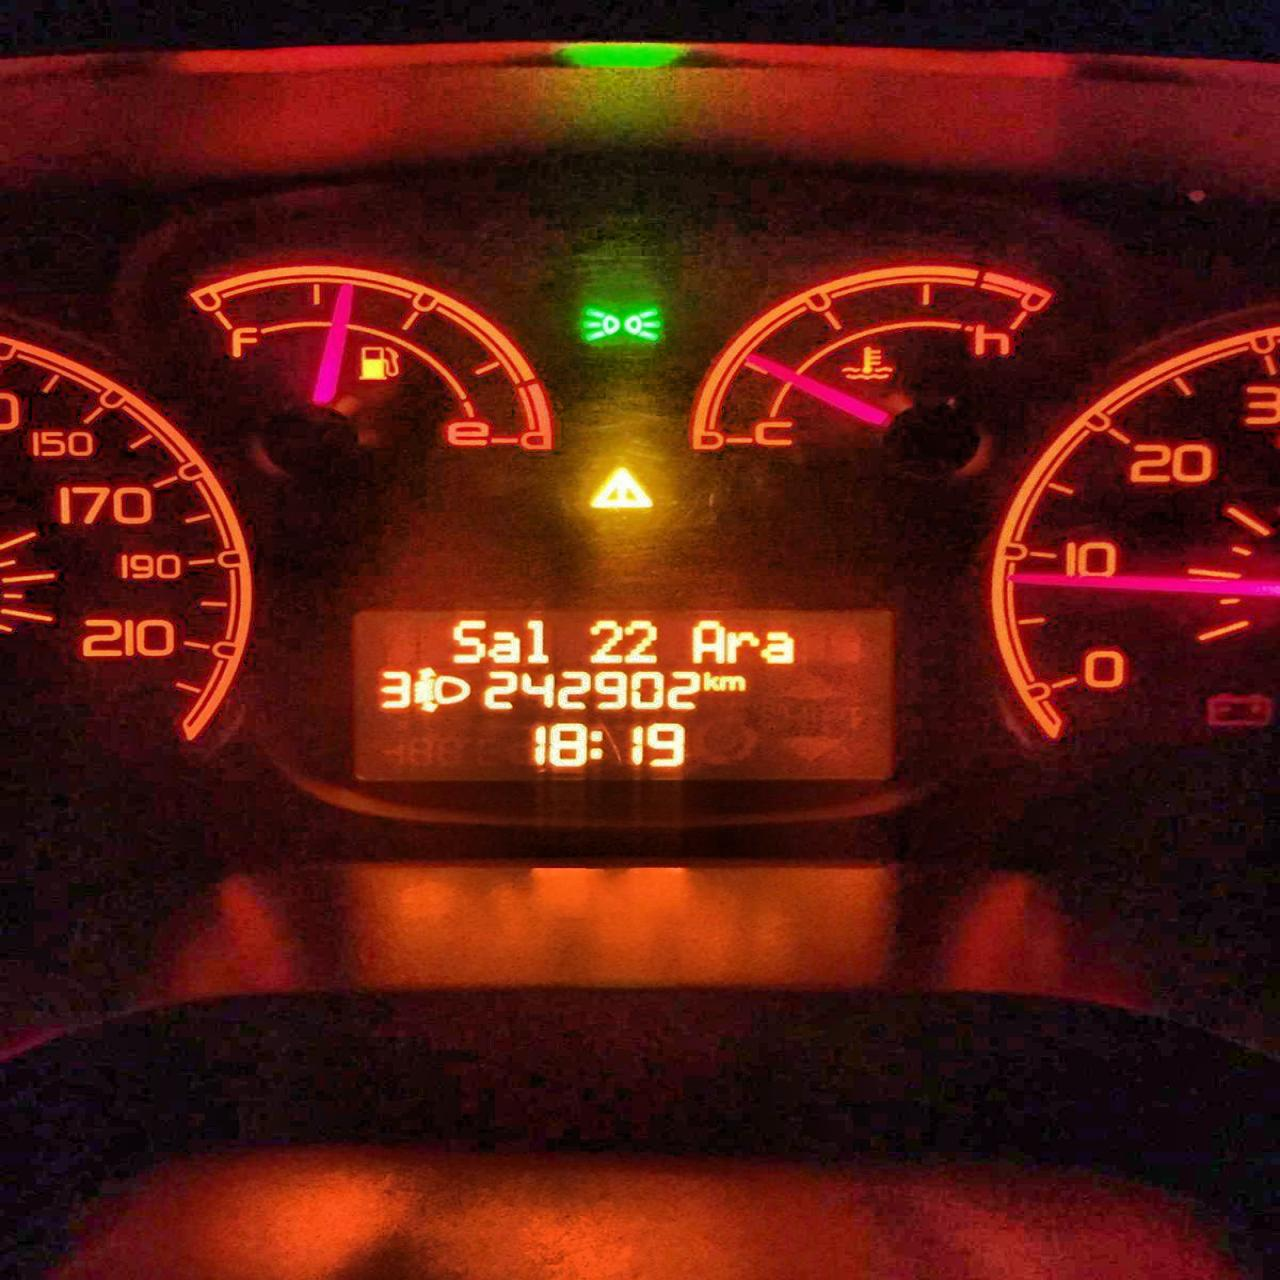0: (629, 668, 663, 712)
1: (527, 720, 549, 770), (629, 720, 645, 770)
2: (624, 617, 659, 663), (588, 618, 622, 665), (482, 669, 519, 710), (557, 668, 591, 712), (667, 668, 699, 712)
3: (377, 668, 410, 712)
4: (520, 669, 553, 712)
8: (550, 720, 585, 768)
9: (646, 721, 686, 768), (594, 668, 628, 710)
X: (523, 613, 556, 668), (450, 617, 486, 663), (689, 619, 726, 663), (761, 628, 802, 667), (488, 627, 519, 665), (726, 628, 757, 663), (587, 724, 607, 762), (721, 672, 745, 693), (702, 668, 720, 694)
odometer: (349, 602, 897, 784)
